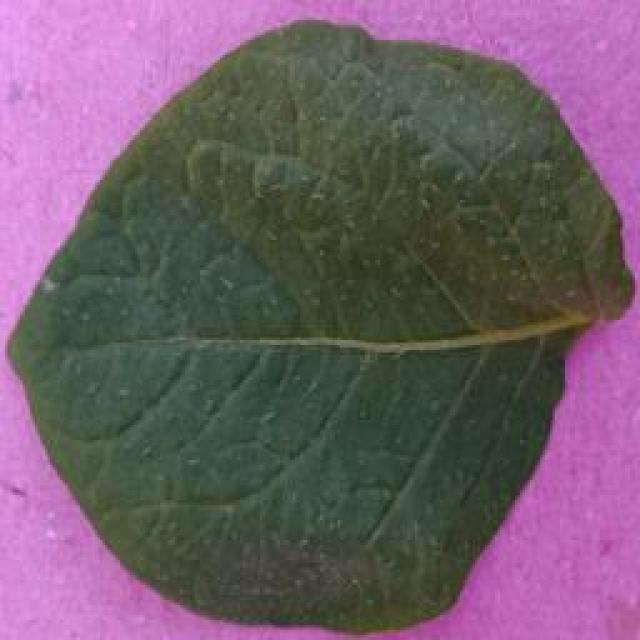Potato_Healthy: (7, 18, 624, 630)
